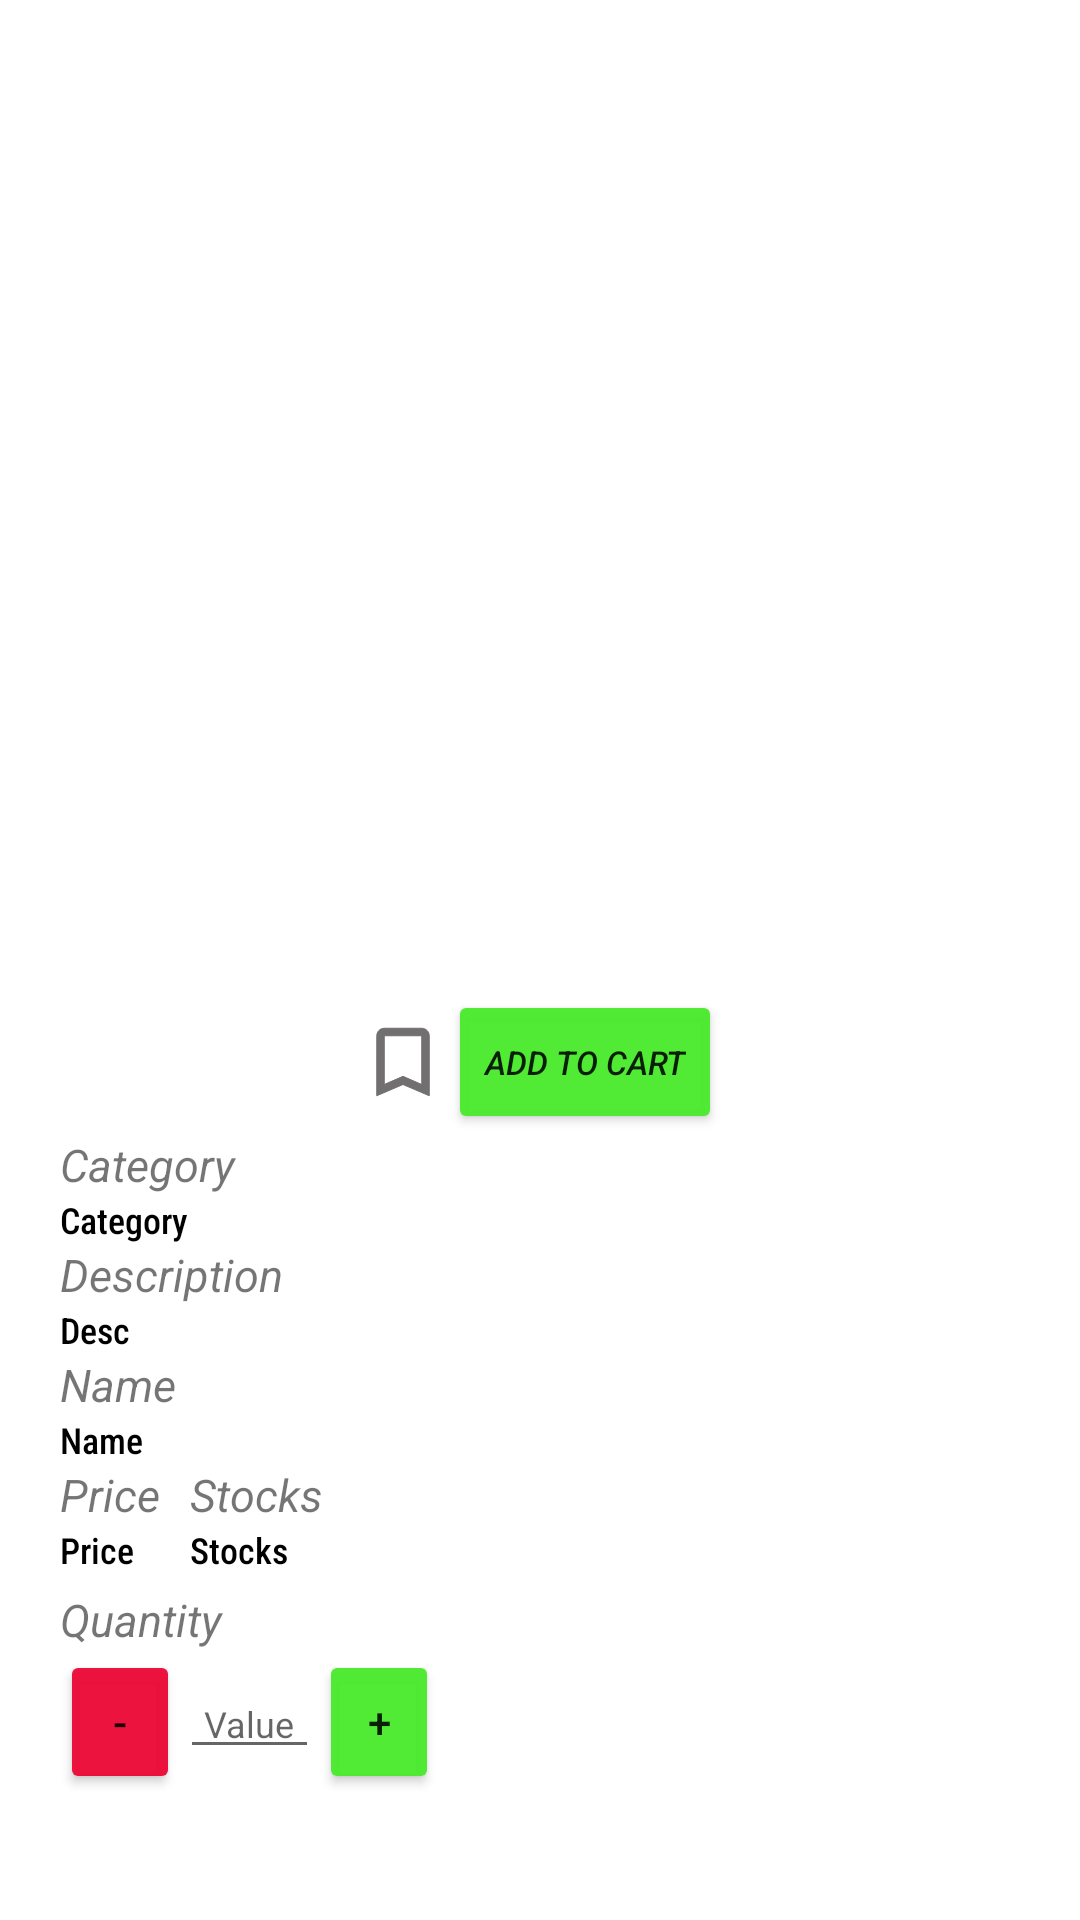

Screen size 1080 x 1920. Icon name, then its box in pixels as [x1=x1, y1=y1, x2=x2, y2=y2]:
bookmark border: [x1=376, y1=1027, x2=430, y2=1096]
